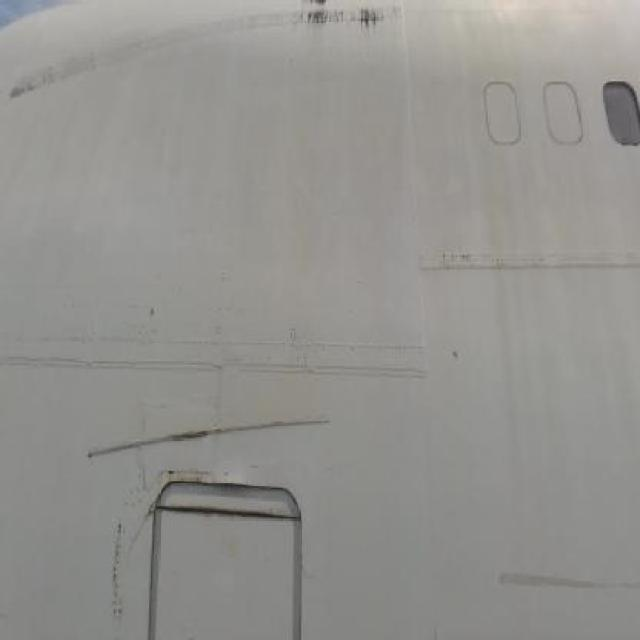Rust: (277, 0, 415, 46)
Scartch: (5, 68, 118, 112)
